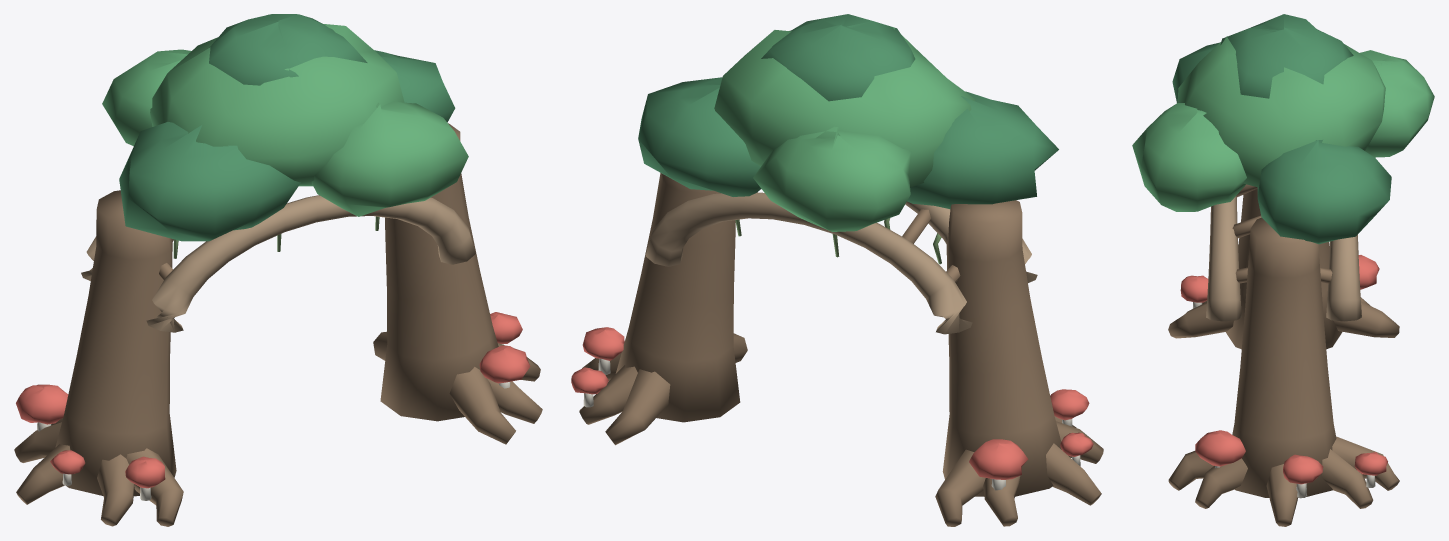
The model's file is roottree.glb.
The picture shows the model from 3 angles, left to right: view 1: azimuth 30°, elevation 25°; view 2: azimuth 150°, elevation 25°; view 3: azimuth 270°, elevation 25°; orthographic projection. The views are drawn at different scales.
Visible parts, largest first — view 1: Trunk-1, Crown0, Trunk1, Crown1, Crown4, Rib0, Crown5, Crown3, Root1_4, Crown2, Root-1_2, Shroom0C (+8 smaller); view 2: Trunk-1, Trunk1, Crown0, Crown3, Crown1, Crown2, Rib2, Crown5, Root1_3, Root-1_3, Shroom0C, Root-1_0 (+7 smaller); view 3: Trunk1, Crown0, Crown2, Crown4, Crown5, Crown3, Rib0, Rib2, Trunk-1, Root1_1, Root1_2, Shroom2C (+10 smaller).
Boxes of the visible parts, x1,y1,x2,y2 form: Trunk-1: (55, 190, 176, 496); Crown0: (150, 24, 404, 186); Trunk1: (380, 123, 498, 421); Crown1: (119, 122, 300, 241); Crown4: (311, 101, 468, 216); Rib0: (146, 195, 475, 332); Crown5: (209, 14, 367, 85); Crown3: (102, 49, 191, 146); Root1_4: (449, 367, 515, 444); Crown2: (374, 50, 455, 122); Root-1_2: (97, 454, 134, 526); Shroom0C: (16, 384, 68, 424); Trunk-1: (942, 200, 1061, 496); Trunk1: (615, 173, 740, 422); Crown0: (714, 27, 974, 187); Crown3: (753, 126, 911, 231); Crown1: (907, 91, 1058, 209); Crown2: (638, 77, 761, 196); Rib2: (645, 192, 972, 334); Crown5: (761, 14, 915, 101); Root1_3: (605, 369, 670, 445); Root-1_3: (935, 449, 985, 526); Shroom0C: (969, 439, 1028, 479); Root-1_0: (1046, 443, 1101, 505); Trunk1: (1232, 217, 1336, 497); Crown0: (1177, 36, 1385, 187); Crown2: (1257, 140, 1391, 244); Crown4: (1132, 103, 1246, 211); Crown5: (1220, 14, 1353, 98); Crown3: (1360, 50, 1434, 157); Rib0: (1206, 196, 1241, 321); Rib2: (1326, 234, 1361, 321); Trunk-1: (1226, 189, 1342, 349); Root1_1: (1322, 449, 1373, 508); Root1_2: (1195, 458, 1247, 508); Shroom2C: (1195, 430, 1245, 466).
Size of the model in its own units: 47.73 by 36.96 by 26.21.
